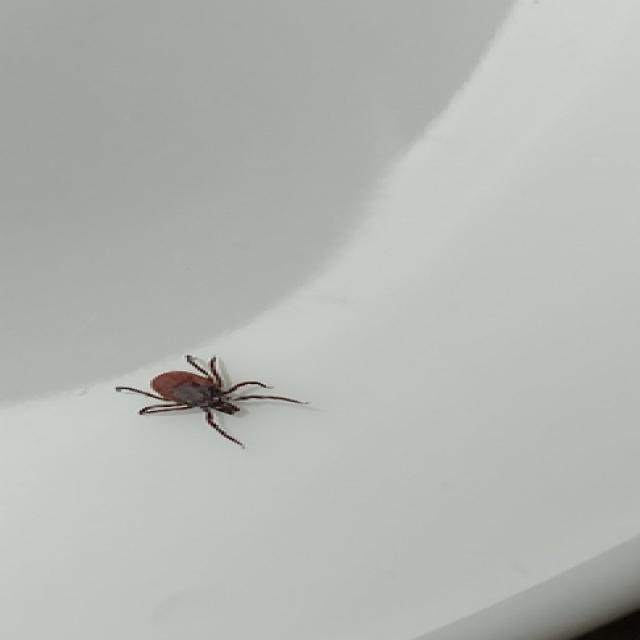Ixodes Ricinus-F: (113, 355, 311, 451)
